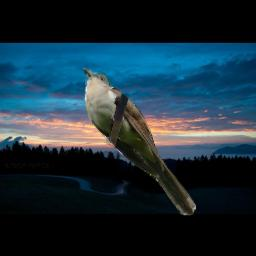Cuckoo: (83, 68, 196, 216)
